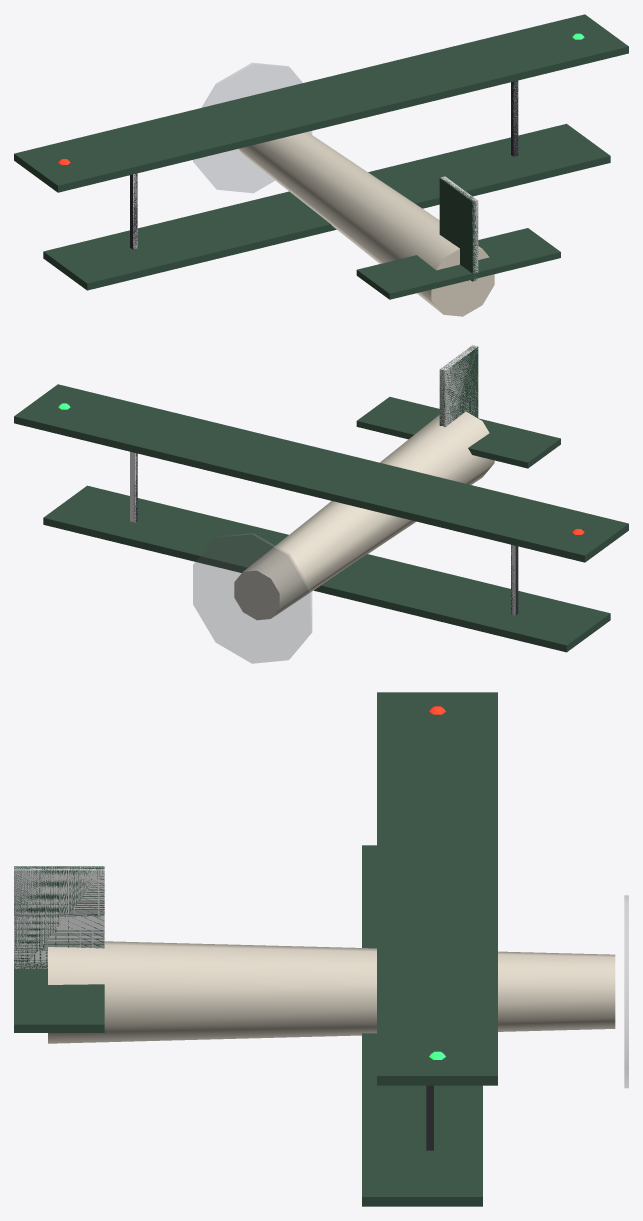
The model's file is biplane.glb.
The picture shows the model from 3 angles, top to bottom: view 1: azimuth 30°, elevation 25°; view 2: azimuth 150°, elevation 25°; view 3: azimuth 270°, elevation 25°; orthographic projection. The views are drawn at different scales.
Parts seen in each view (by area): view 1: 01_#3c5a48, 00_#e8e0d0, 04_#8a8e92_noshadow, 03_#3c5a48_r320, 02_#3a3a40_r320, solid.002; view 2: 01_#3c5a48, 00_#e8e0d0, 04_#8a8e92_noshadow, 03_#3c5a48_r320, solid.002, 02_#3a3a40_r320, solid.001; view 3: 01_#3c5a48, 00_#e8e0d0, solid.002, 03_#3c5a48_r320, 04_#8a8e92_noshadow.
Part boxes in pixels (bbox=[...]): 01_#3c5a48: bbox=[14, 14, 628, 299]; 00_#e8e0d0: bbox=[238, 132, 494, 316]; 04_#8a8e92_noshadow: bbox=[193, 63, 311, 192]; 03_#3c5a48_r320: bbox=[439, 177, 478, 281]; 02_#3a3a40_r320: bbox=[130, 80, 518, 249]; solid.002: bbox=[441, 176, 478, 280]; 01_#3c5a48: bbox=[14, 384, 628, 652]; 00_#e8e0d0: bbox=[234, 411, 494, 620]; 04_#8a8e92_noshadow: bbox=[193, 533, 311, 663]; 03_#3c5a48_r320: bbox=[439, 345, 478, 426]; solid.002: bbox=[439, 345, 478, 427]; 02_#3a3a40_r320: bbox=[133, 453, 518, 615]; solid.001: bbox=[130, 451, 137, 522]; 01_#3c5a48: bbox=[14, 692, 497, 1206]; 00_#e8e0d0: bbox=[48, 941, 615, 1043]; solid.002: bbox=[14, 866, 104, 968]; 03_#3c5a48_r320: bbox=[14, 866, 104, 968]; 04_#8a8e92_noshadow: bbox=[624, 895, 628, 1087].
Size of the model in its own units: 12 by 3.1 by 8.13.
